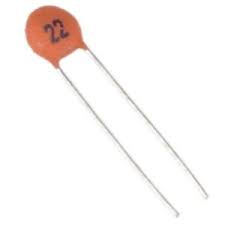ceramic capacitor: (11, 1, 112, 104)
